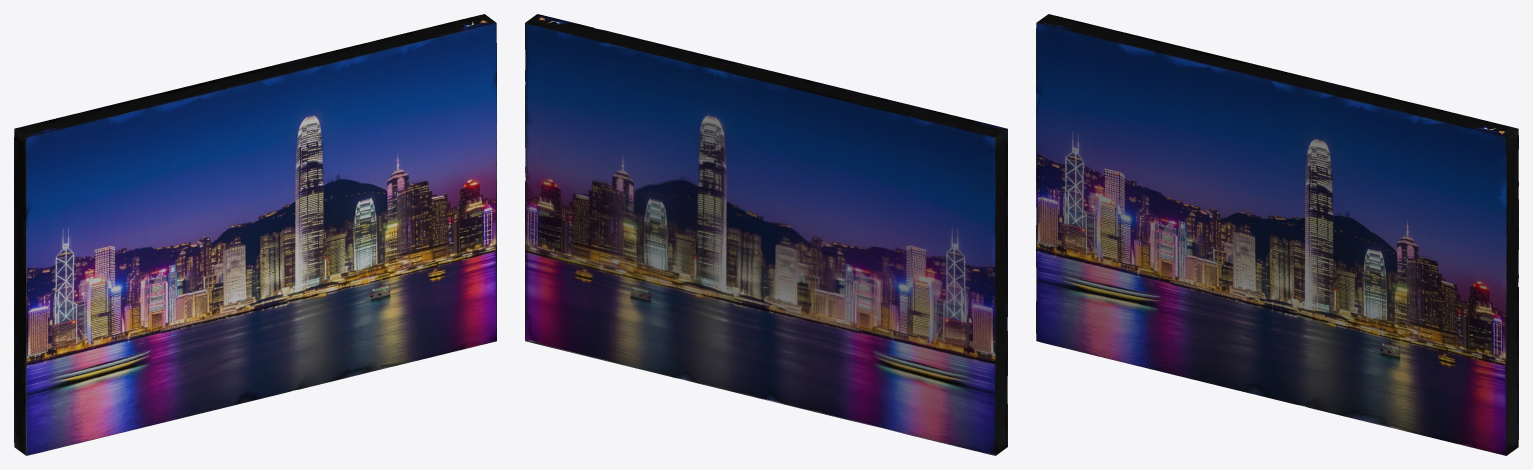
Rendered from City Skyline Backdrop.glb.
3 views of the same model, side by side, from view 1: azimuth 30°, elevation 25°; view 2: azimuth 150°, elevation 25°; view 3: azimuth 330°, elevation 25° (orthographic).
Parts seen in each view (by area): view 1: Mesh_0; view 2: Mesh_0; view 3: Mesh_0.
Part boxes in pixels (x1,y1,x2,y2): Mesh_0: [14, 14, 496, 455]; Mesh_0: [525, 14, 1007, 455]; Mesh_0: [1036, 14, 1518, 455].
Size of the model in its own units: 0.4638 by 0.3 by 0.0211.
1 material, 1 textured.
